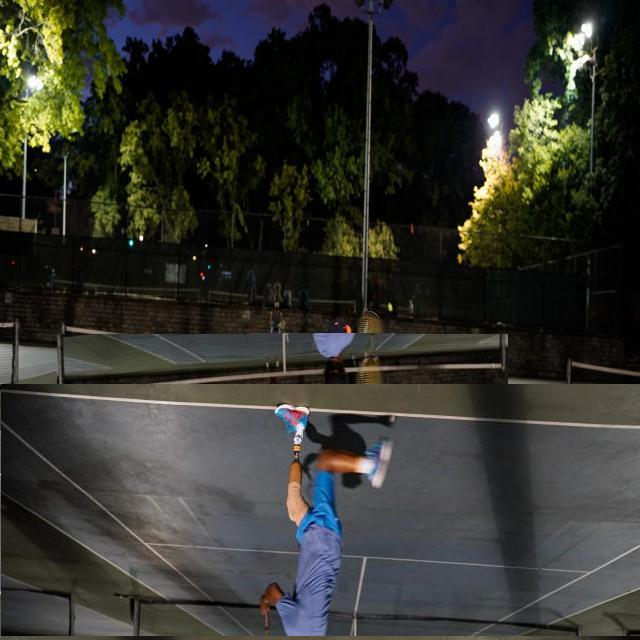court: (1, 384, 640, 636)
net: (58, 334, 510, 391)
player: (250, 312, 396, 622)
